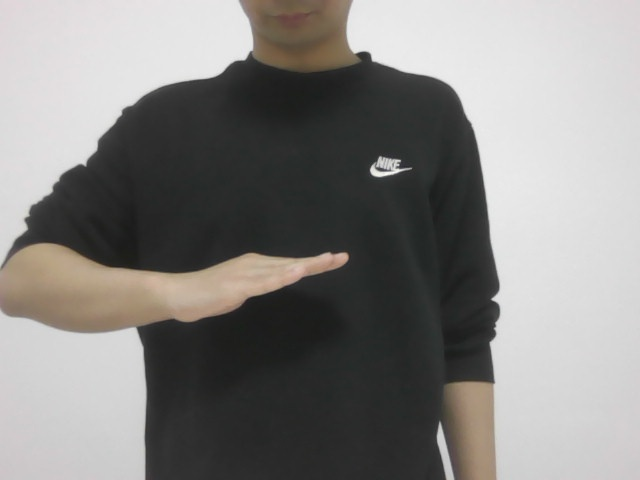safe: (165, 236, 354, 332)
